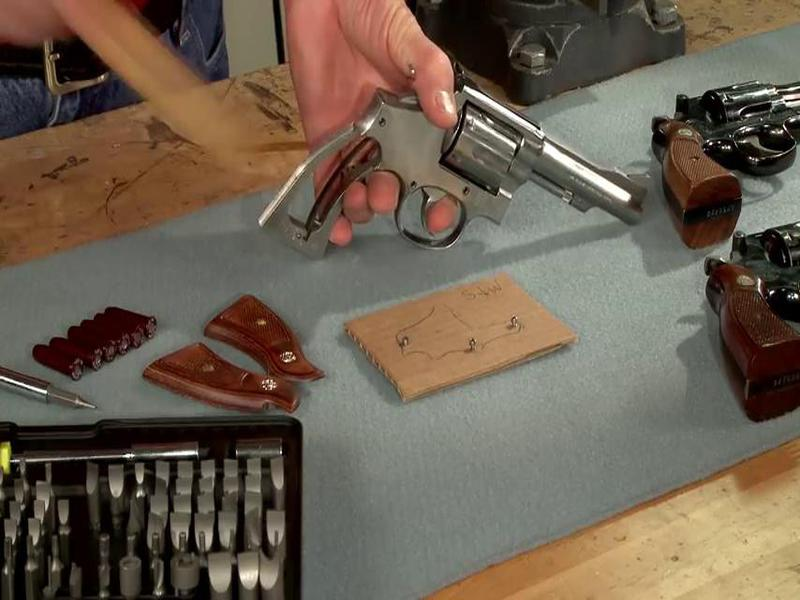Revolver: (246, 40, 647, 284)
